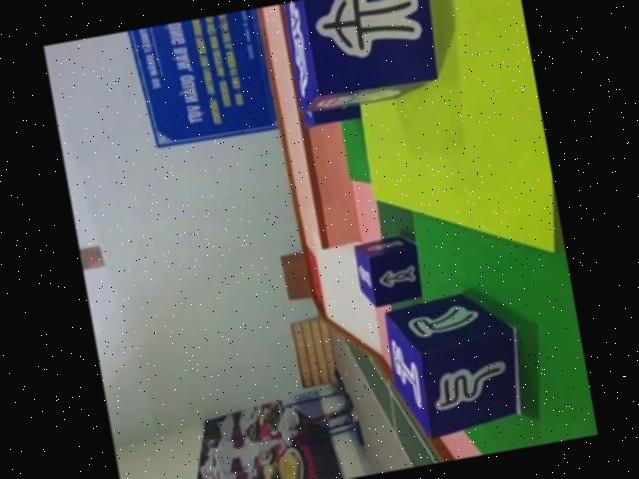R2 Fake Blue: (379, 288, 533, 446), (282, 0, 452, 113)
R2 Real Blue: (350, 233, 425, 311)
